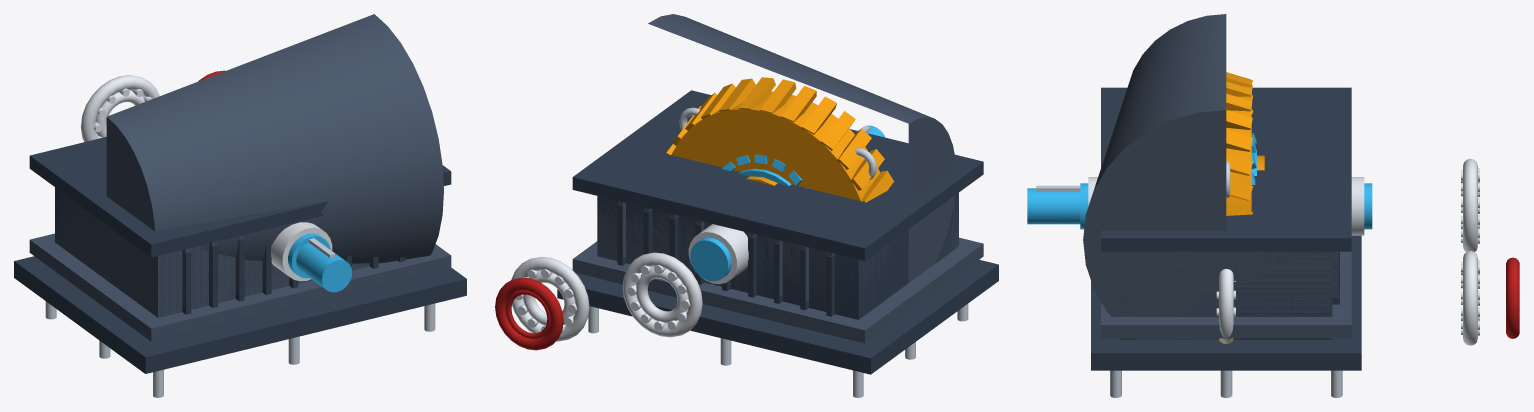
File: helical_gearbox_industrial.glb
3 renders of one model, left to right at view 1: azimuth 30°, elevation 25°; view 2: azimuth 150°, elevation 25°; view 3: azimuth 270°, elevation 25°, orthographic. The views are drawn at different scales.
Visible parts, largest first — view 1: part-housing-top, part-housing-bottom, part-taper-bearings, part-input-pinion-shaft, part-output-gear, part-bolts-perimeter; view 2: part-housing-bottom, part-housing-top, part-output-gear, part-taper-bearings, part-radial-seals, part-input-pinion-shaft, part-bolts-perimeter; view 3: part-housing-top, part-housing-bottom, part-output-gear, part-taper-bearings, part-input-pinion-shaft, part-radial-seals, part-bolts-perimeter.
Boxes of the visible parts, x1,y1,x2,y2 form: part-housing-top: (29, 14, 451, 341); part-housing-bottom: (14, 137, 466, 373); part-taper-bearings: (81, 75, 159, 141); part-input-pinion-shaft: (288, 233, 352, 292); part-output-gear: (271, 222, 332, 281); part-bolts-perimeter: (45, 301, 435, 397); part-housing-bottom: (557, 90, 998, 374); part-housing-top: (572, 14, 983, 342); part-output-gear: (666, 77, 893, 284); part-taper-bearings: (511, 252, 702, 341); part-radial-seals: (495, 277, 563, 350); part-input-pinion-shaft: (690, 125, 885, 281); part-bolts-perimeter: (588, 303, 968, 397); part-housing-top: (1083, 14, 1351, 339); part-housing-bottom: (1091, 87, 1361, 370); part-output-gear: (1088, 72, 1364, 235); part-taper-bearings: (1216, 158, 1479, 345); part-input-pinion-shaft: (1027, 133, 1372, 229); part-radial-seals: (1506, 257, 1519, 338); part-bolts-perimeter: (1110, 370, 1342, 397).
Size of the model in its own units: 3.6 by 3.04 by 4.64.
